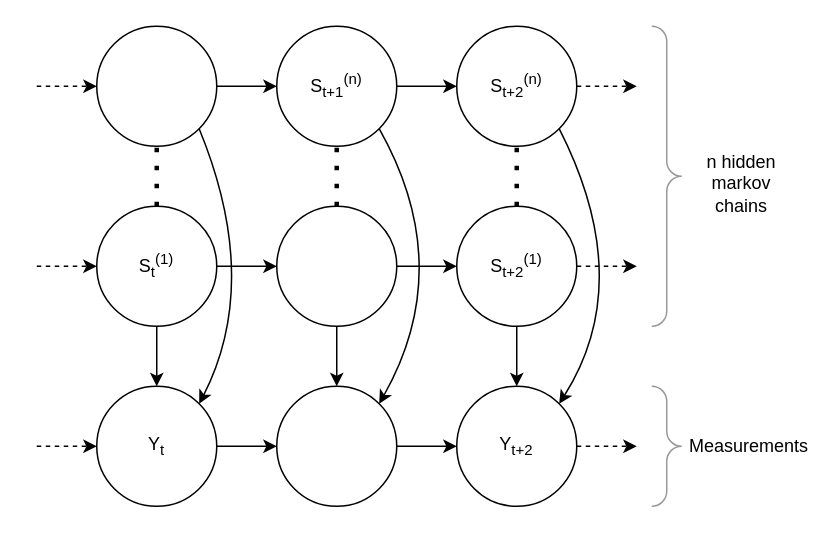
Image size: 834x533. Some labels were removed from this diagram. Here are the shapes that lost their labels. From the top down, the centre of each, then its label:
At (156,85): "S t (n)".
At (336,265): "S t+1 (1)".
At (336,445): "Y t+1".
